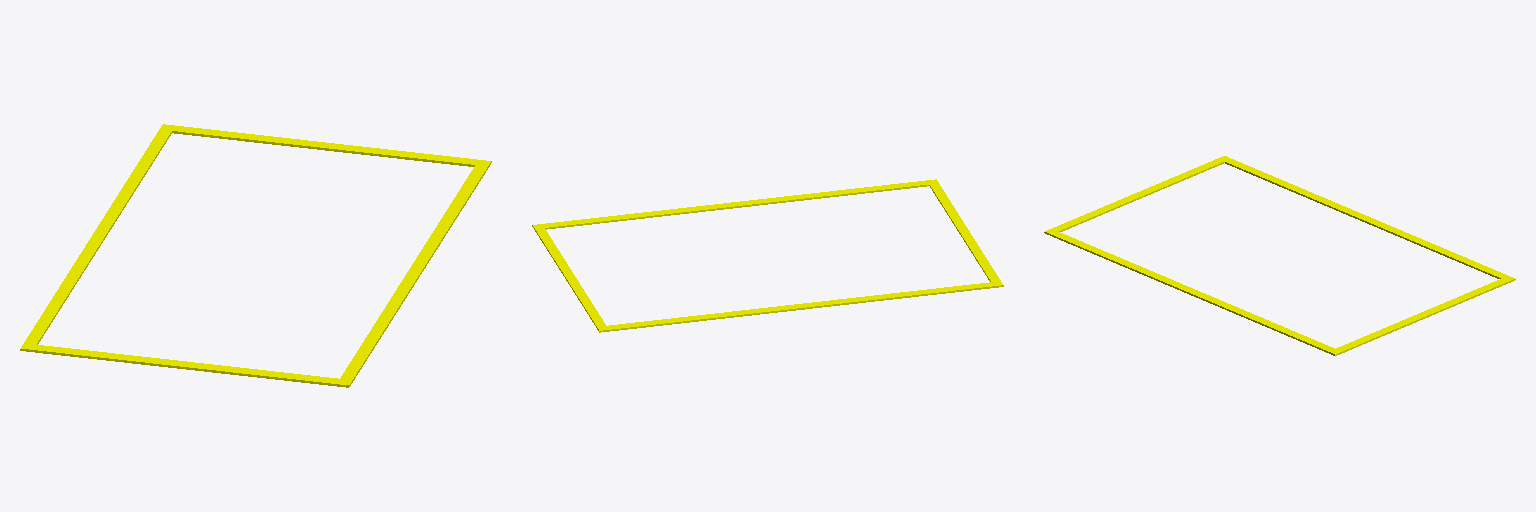
robot.urdf — walls:
<?xml version="1.0" encoding="utf-8"?>
<robot name="walls">
  <link name="base_link">
    <contact>
      <lateral_friction value="0.5"/>
      <rolling_friction value="0.0"/>
      <contact_cfm value="0.0"/>
      <contact_erp value="1.0"/>
    </contact>
    <inertial>
      <origin rpy="0 0 0" xyz="0 0 0"/>
      <mass value="0"/>
      <inertia ixx="0" ixy="0" ixz="0" iyy="0" iyz="0" izz="0"/>
    </inertial>
    <visual>
      <origin rpy="1.57 0 0.78539816339" xyz="0 0 0"/>
      <geometry>
        <mesh filename="models/meshes/ramp_tape/ramp_tape.STL" scale="10 10 10"/>
      </geometry>
      <material name="tray_material">
        <color rgba="1 1 0 1"/>
      </material>
    </visual>
  </link>
</robot>

--- Render facts (derived) ---
3 views of the same robot in one strip: view 1: azimuth 30°, elevation 25°; view 2: azimuth 150°, elevation 25°; view 3: azimuth 270°, elevation 25° (orthographic).
Robot: walls — 1 links, 0 joints (none); root link base_link; default pose: every joint at zero.
Visible links, largest first — view 1: base_link; view 2: base_link; view 3: base_link.
Boxes of the visible links, x1=… form: base_link: x1=20, y1=124, x2=491, y2=387; base_link: x1=532, y1=179, x2=1003, y2=332; base_link: x1=1044, y1=156, x2=1515, y2=355.
Size in the robot's own frame: 2.4 by 2.4 by 0.011 metres.
1 mesh visuals loaded from 1 distinct referenced files (1 binary STL).